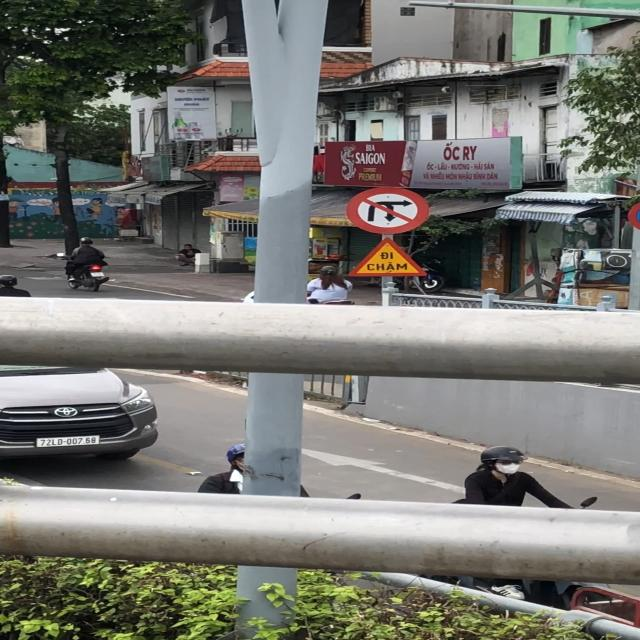Bien bao cam re phai va quay dau: (342, 184, 433, 237)
